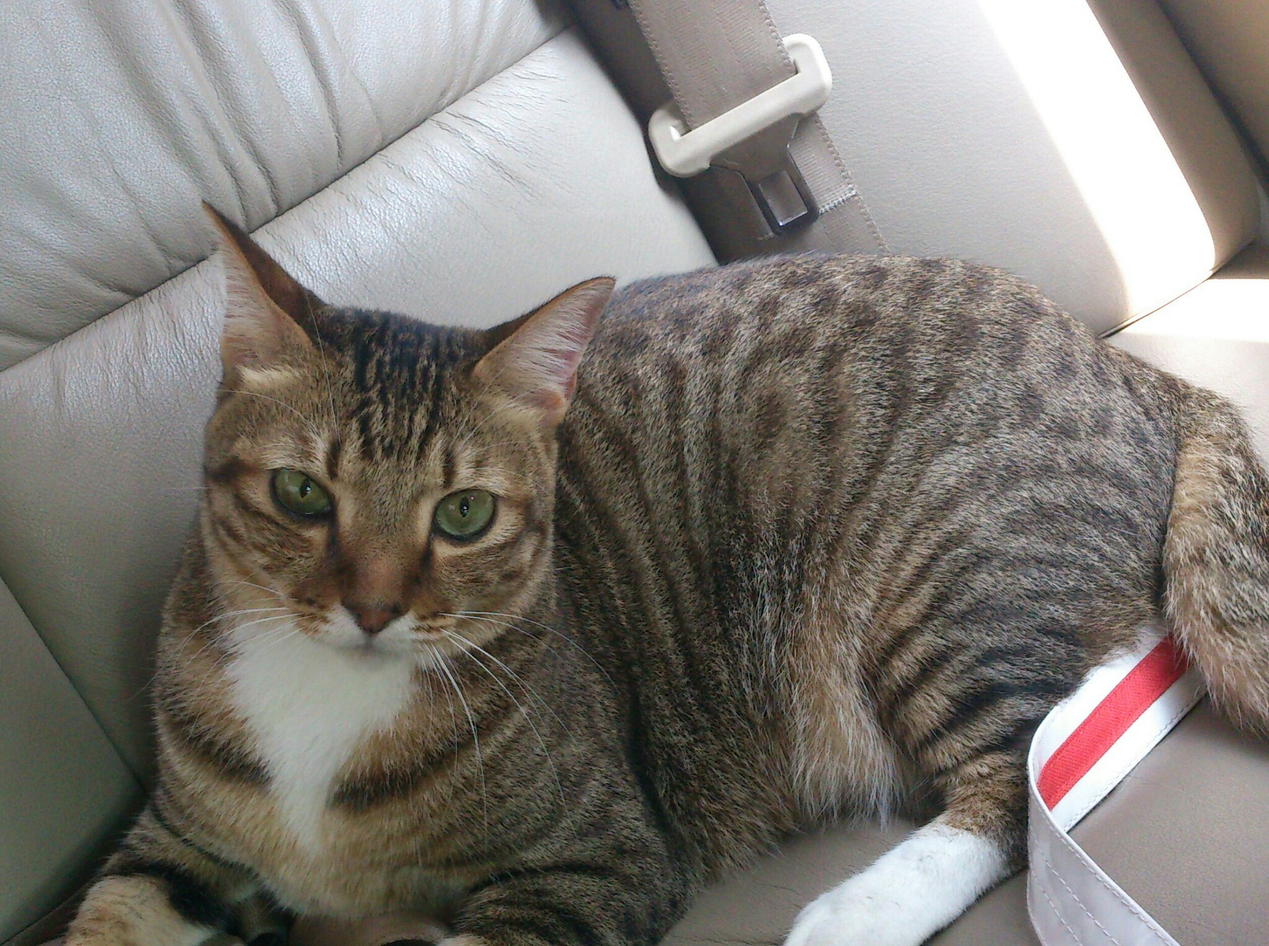cat: (31, 188, 1269, 946)
